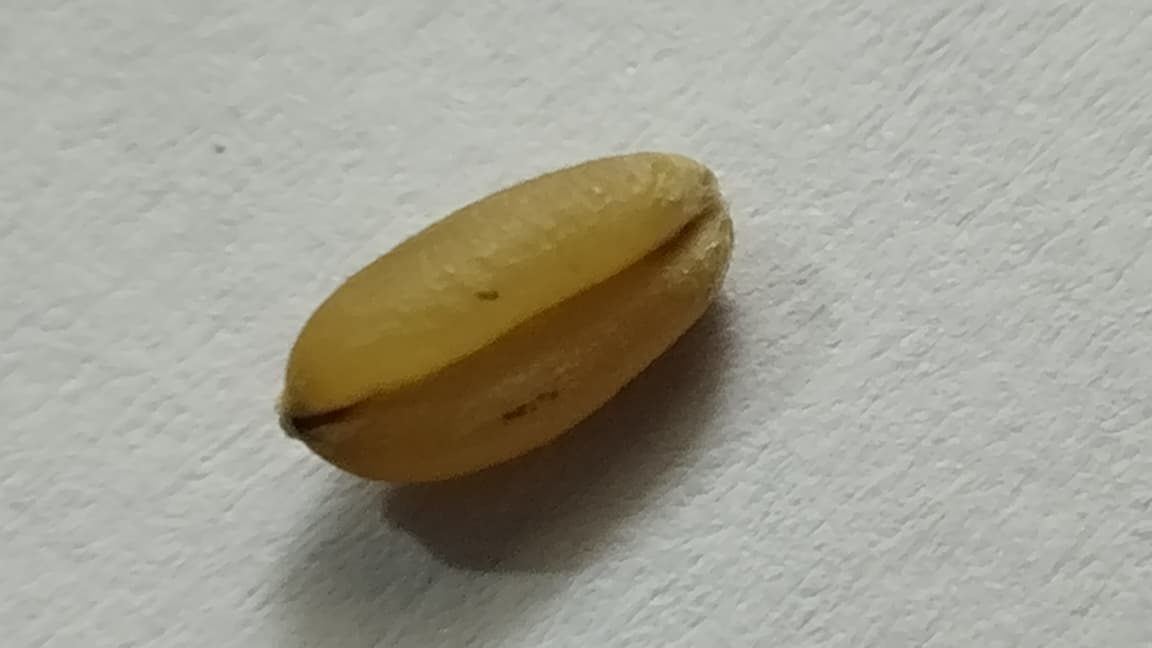healthy: (276, 150, 732, 483)
